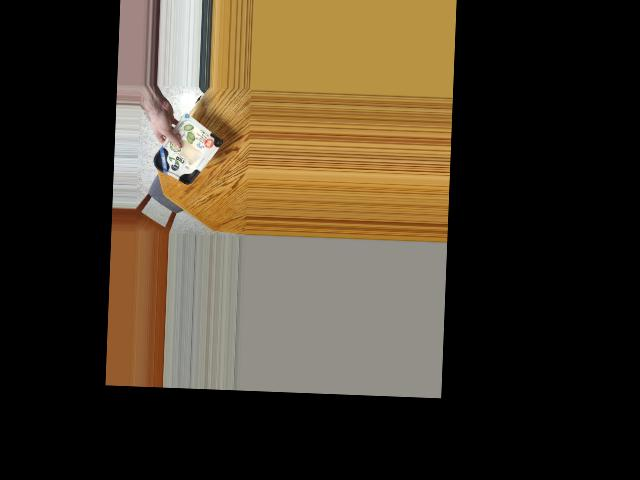cheese: (148, 123, 219, 182)
